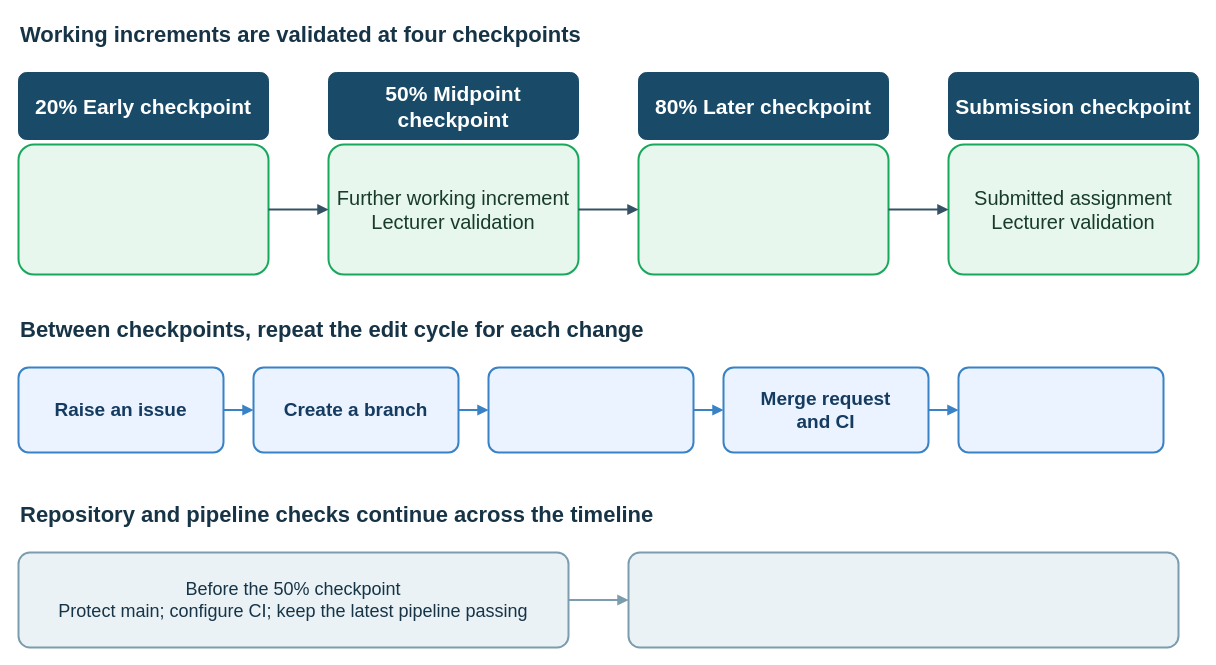
This 1216x665 diagram has some shape labels left out. Each missing label, with the box of its shape:
Edit and check: (487, 366, 694, 453)
From midpoint to submission Keep main protected and the latest pipeline passing: (627, 551, 1179, 648)
Initial working increment Lecturer validation: (17, 143, 269, 275)
Later working increment Lecturer validation: (637, 143, 889, 275)
Merge into protected main: (957, 366, 1164, 453)
